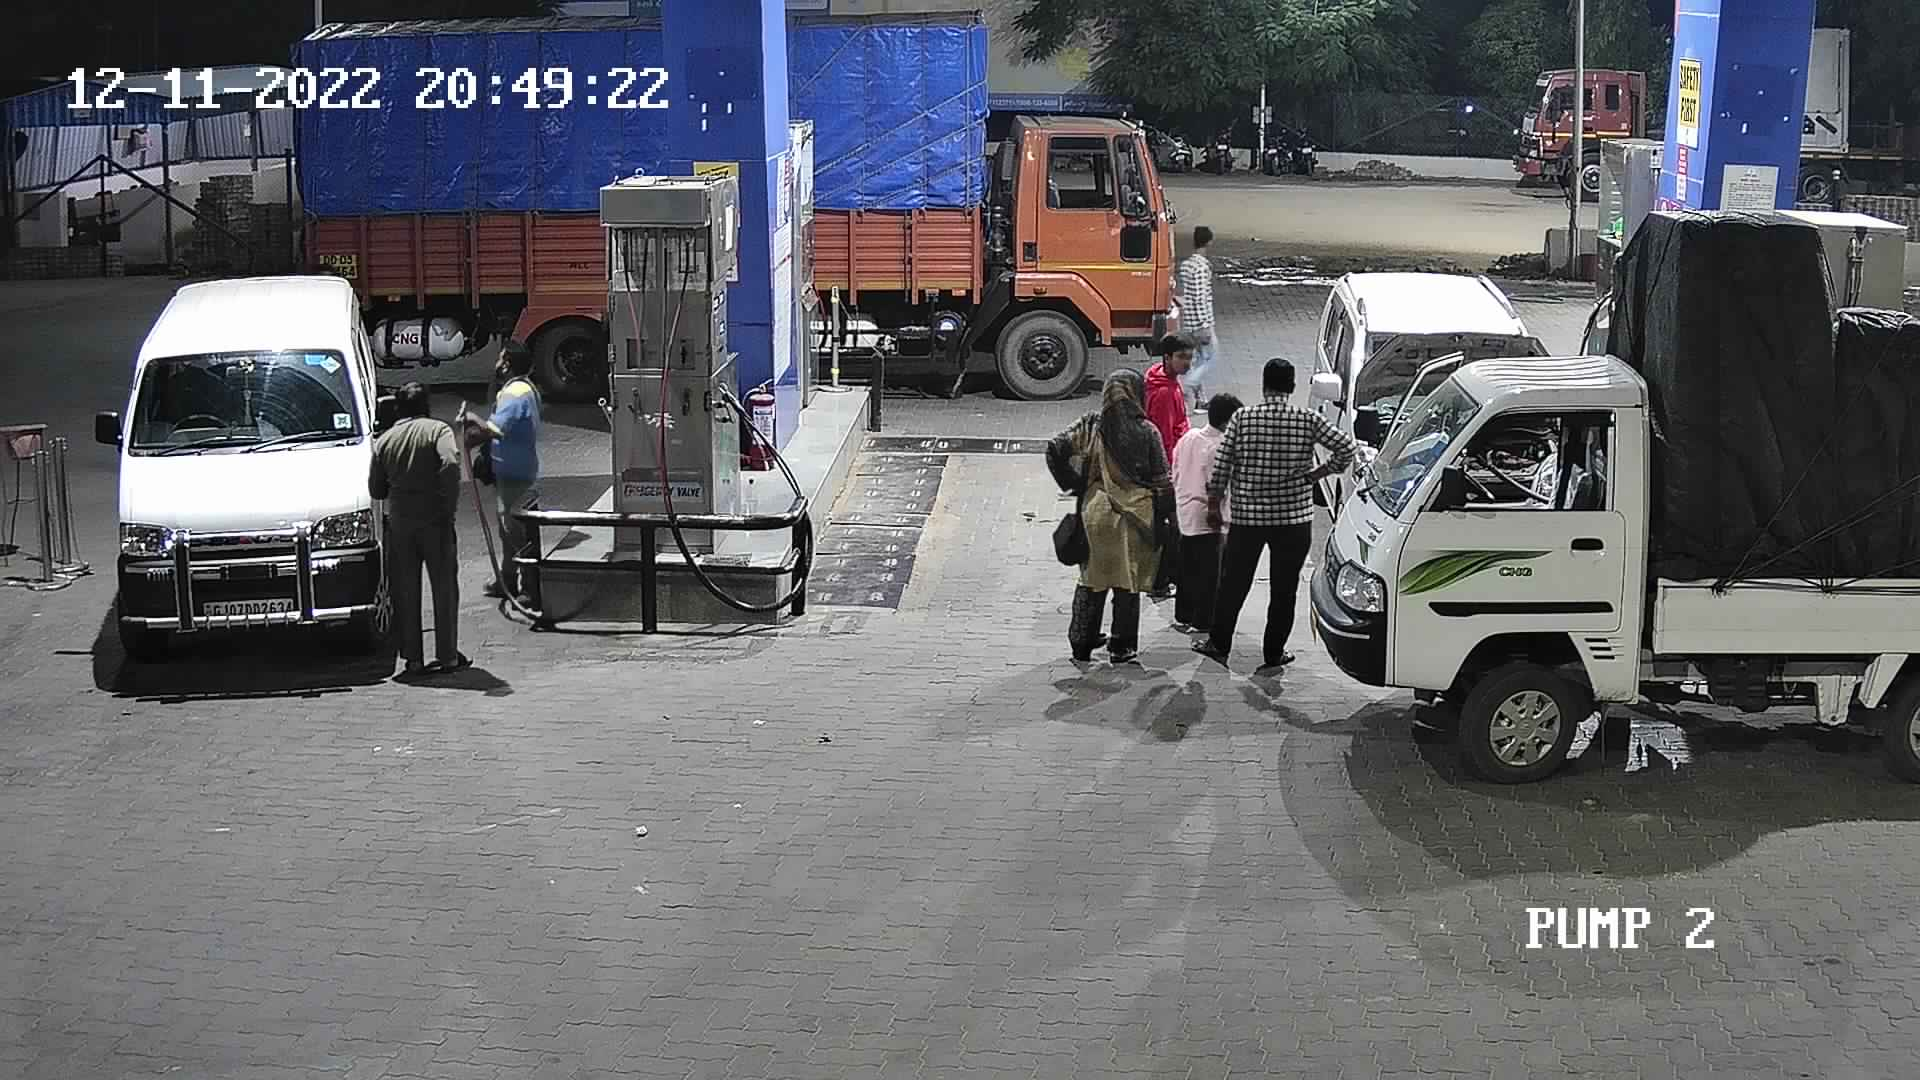Bike: (1153, 121, 1199, 185), (1197, 120, 1237, 181), (1286, 121, 1323, 179), (1257, 125, 1294, 175)
Car: (1292, 187, 1915, 806), (92, 264, 421, 657), (1288, 260, 1563, 527)
HMV: (775, 1, 1200, 405), (1501, 51, 1663, 204)
Others: (444, 334, 556, 608)
